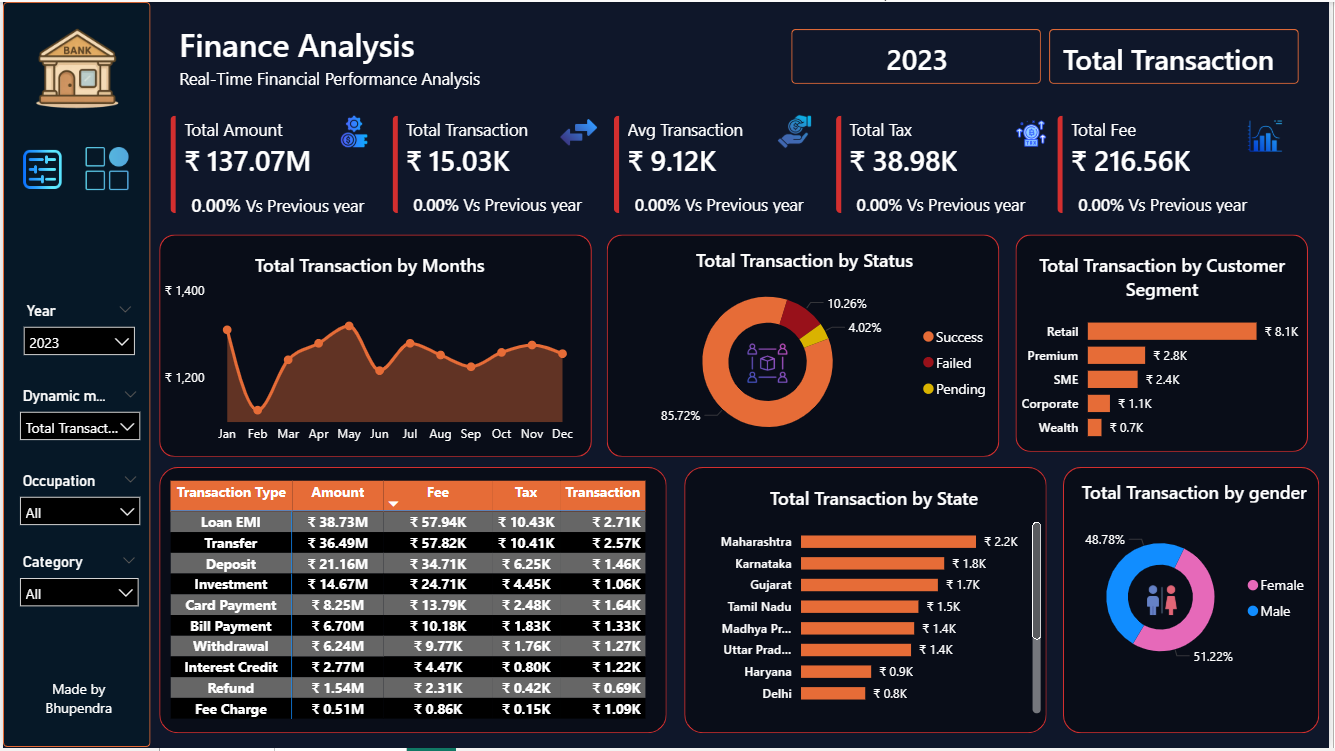

The page's visual inventory and layout, read from the dashboard file:
{"tool":"powerbi","page":{"name":"Overview ","canvas":[1280,720],"ordinal":0},"visuals":[{"type":"shape","box":[0,0,142.4,719],"z":0},{"type":"cardVisual","fields":{"Data":["Calendar.Title"]},"box":[140.7,0,438.7,104.9],"z":1000},{"type":"image","box":[6.9,17.8,129,91.9],"z":2000},{"type":"slicer","fields":{"Values":["Calendar.Year"]},"box":[10,285.2,127.6,74.5],"z":3000},{"type":"image","box":[536.7,104.9,37.2,41.4],"z":4000},{"type":"cardVisual","fields":{"Data":["Calendar.Total Amount","Calendar.Total Transaction","Calendar.Avg Transaction","Calendar.Total Tax","Calendar.Total Fee"]},"box":[157.3,104.9,1084.4,104.9],"z":5000},{"type":"image","box":[961.6,110.4,62.1,34.5],"z":6000},{"type":"image","box":[317.3,110.4,42.8,30.4],"z":7000},{"type":"image","box":[1194.7,111.7,46.9,34.5],"z":8000},{"type":"image","box":[738.1,109,51,33.1],"z":9000},{"type":"shape","box":[150.8,224.4,417.4,214.7],"z":10000},{"type":"shape","box":[150.8,448.8,489.8,257],"z":11000},{"type":"shape","box":[977.2,224.4,282.3,209.9],"z":12000},{"type":"shape","box":[1023.1,448.8,247.3,257],"z":13000},{"type":"shape","box":[657.5,448.8,349.9,257],"z":14000},{"type":"shape","box":[582.7,224.4,378.8,214.7],"z":15000},{"type":"slicer","fields":{"Values":["Dynamic metric.Dynamic metric"]},"box":[5.7,366.9,136.2,73.1],"z":16000},{"type":"areaChart","fields":{"Y":["Calendar.Total Tax"],"Category":["Calendar.Month_name"]},"box":[150.9,242.9,406.2,192.1],"z":17000},{"type":"cardVisual","fields":{"Data":["Calendar.Selected Year","Calendar.Selected Dynamic Metric"]},"box":[753.3,17.8,506.3,70],"z":18000},{"type":"donutChart","title":"Total Transaction by Status","fields":{"Y":["Calendar.Total Tax"],"Category":["finance_transactions.transaction_status"]},"box":[583.6,237.3,379.4,197.3],"z":19000},{"type":"barChart","fields":{"Y":["Calendar.Total Tax"],"Category":["customers.customer_segment"]},"box":[976.8,242.8,282.8,191.8],"z":20000},{"type":"barChart","title":"Total Transaction by State","fields":{"Y":["Calendar.Total Tax"],"Category":["customers.state"]},"box":[674.6,466.3,332.5,224.9],"z":21000},{"type":"pivotTable","title":"Transaction Type Analysis","fields":{"Rows":["finance_transactions.transaction_type"],"Values":["Calendar.Total Amount","Calendar.Total Fee","Calendar.Total Tax","Calendar.Total Transaction"]},"box":[156.8,457.2,483.8,248.5],"z":22000},{"type":"donutChart","fields":{"Y":["Calendar.Total Tax"],"Category":["customers.gender"]},"box":[1029.1,460.9,241.3,205.1],"z":23000},{"type":"image","box":[1089.4,561,57.9,32.6],"z":24000},{"type":"image","box":[708.1,328,59,41.2],"z":25000},{"type":"slicer","fields":{"Values":["customers.occupation"]},"box":[5.7,448.6,136.2,65.9],"z":27000},{"type":"slicer","fields":{"Values":["finance_transactions.merchant_category"]},"box":[5.7,527.5,134.7,78.8],"z":28000},{"type":"image","box":[74.5,140.5,51.6,41.6],"z":29000},{"type":"image","box":[7.2,140.5,61.6,43],"z":30000},{"type":"textbox","box":[9.7,649.1,126.7,70],"z":30001}]}

Visuals, with their boxes on the page's 1280x720 design canvas (x1, y1, x2, y2). These are canvas units, not pixel positions in the 1335x751 screenshot, which may show the page scaled, cropped or inside an application window:
shape: [0,0,142,719]
cardVisual - Calendar.Title: [141,0,579,105]
image: [7,18,136,110]
slicer - Calendar.Year: [10,285,138,360]
image: [537,105,574,146]
cardVisual - Calendar.Total Amount x Calendar.Total Transaction: [157,105,1242,210]
image: [962,110,1024,145]
image: [317,110,360,141]
image: [1195,112,1242,146]
image: [738,109,789,142]
shape: [151,224,568,439]
shape: [151,449,641,706]
shape: [977,224,1260,434]
shape: [1023,449,1270,706]
shape: [658,449,1007,706]
shape: [583,224,962,439]
slicer - Dynamic metric.Dynamic metric: [6,367,142,440]
areaChart - Calendar.Total Tax x Calendar.Month_name: [151,243,557,435]
cardVisual - Calendar.Selected Year x Calendar.Selected Dynamic Metric: [753,18,1260,88]
"Total Transaction by Status" donutChart: [584,237,963,435]
barChart - Calendar.Total Tax x customers.customer_segment: [977,243,1260,435]
"Total Transaction by State" barChart: [675,466,1007,691]
"Transaction Type Analysis" pivotTable: [157,457,641,706]
donutChart - Calendar.Total Tax x customers.gender: [1029,461,1270,666]
image: [1089,561,1147,594]
image: [708,328,767,369]
slicer - customers.occupation: [6,449,142,514]
slicer - finance_transactions.merchant_category: [6,528,140,606]
image: [74,140,126,182]
image: [7,140,69,184]
textbox: [10,649,136,719]
